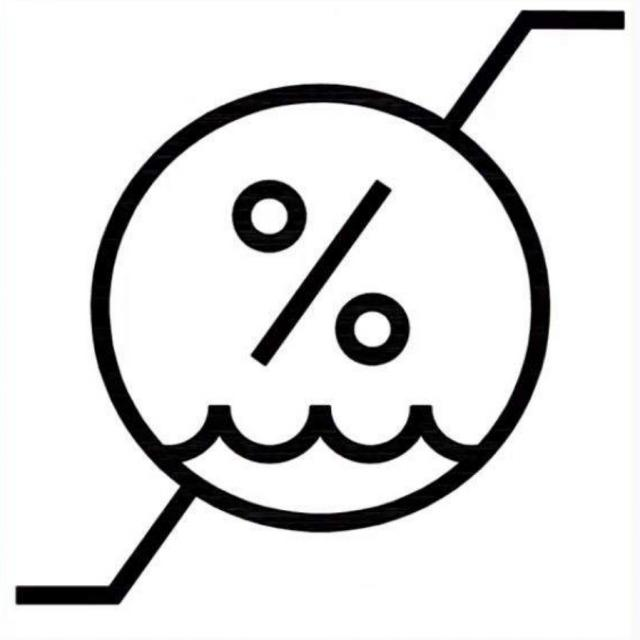Humidity Limitation: (16, 7, 627, 608)
